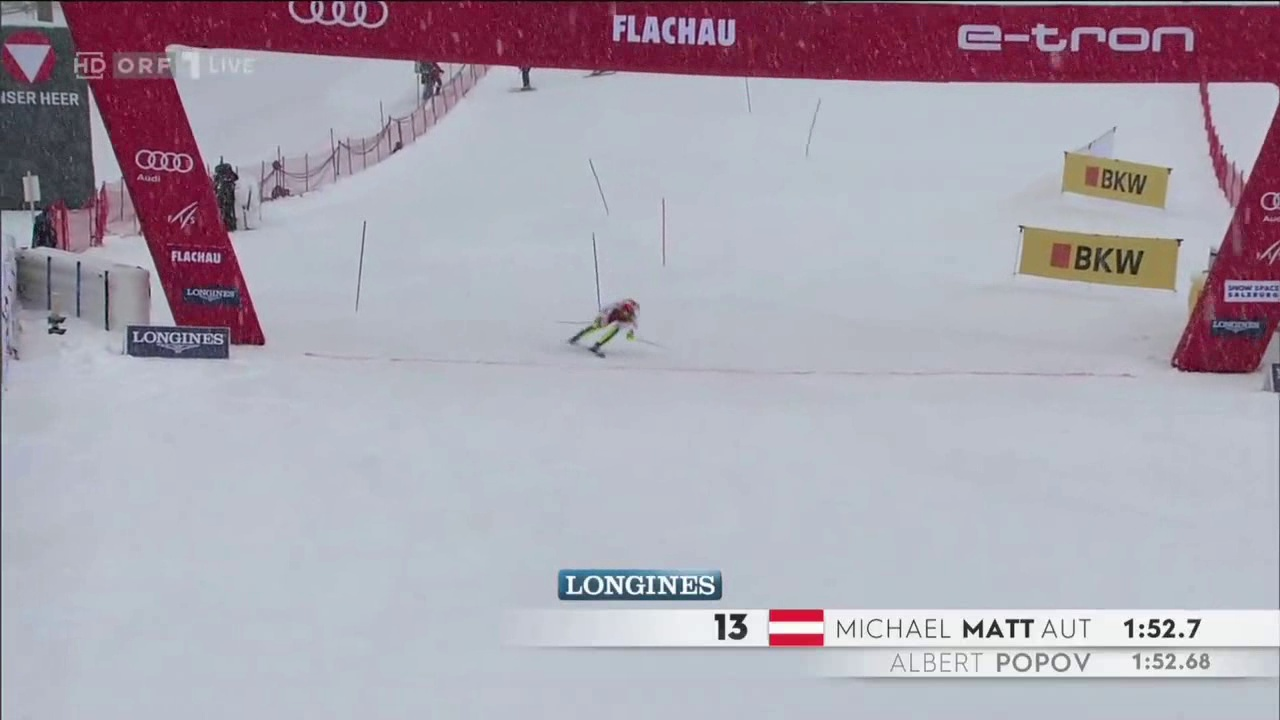audi: (286, 1, 390, 33), (136, 148, 199, 180), (1257, 185, 1279, 221)
etron: (968, 22, 1185, 61)
flachau: (613, 7, 737, 55)
longines: (565, 571, 725, 605), (126, 329, 231, 361)
unserheer: (1, 25, 84, 111)
